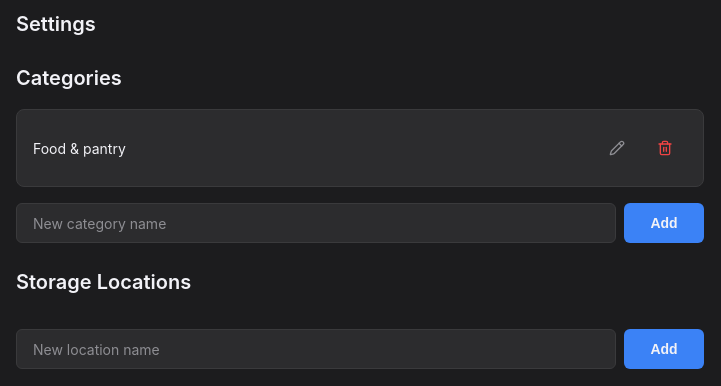
Scenario: T3b: clicking Pencil on a default category enters rename mode
Expected: the text "Food & pantry" is shown, [33,140,126,156]
Click the button named "Rename Food & pantry" at (617, 148), box [595,126,639,170]
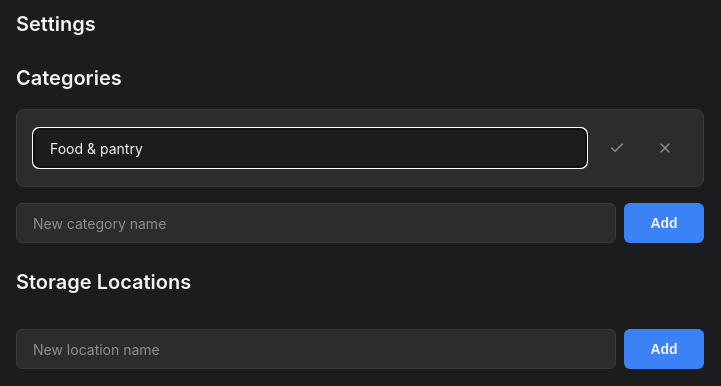
Expected: the field named "Rename input for Food & pantry" is shown, [33,128,587,168]
